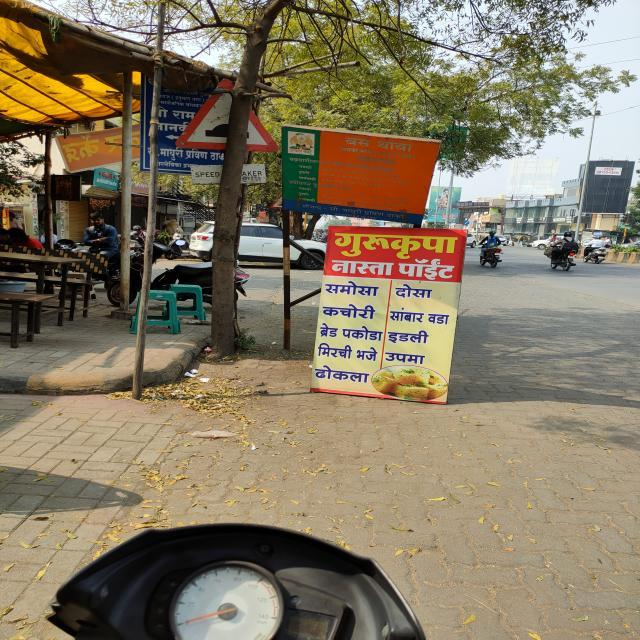hump or rough road: (174, 77, 279, 153)
